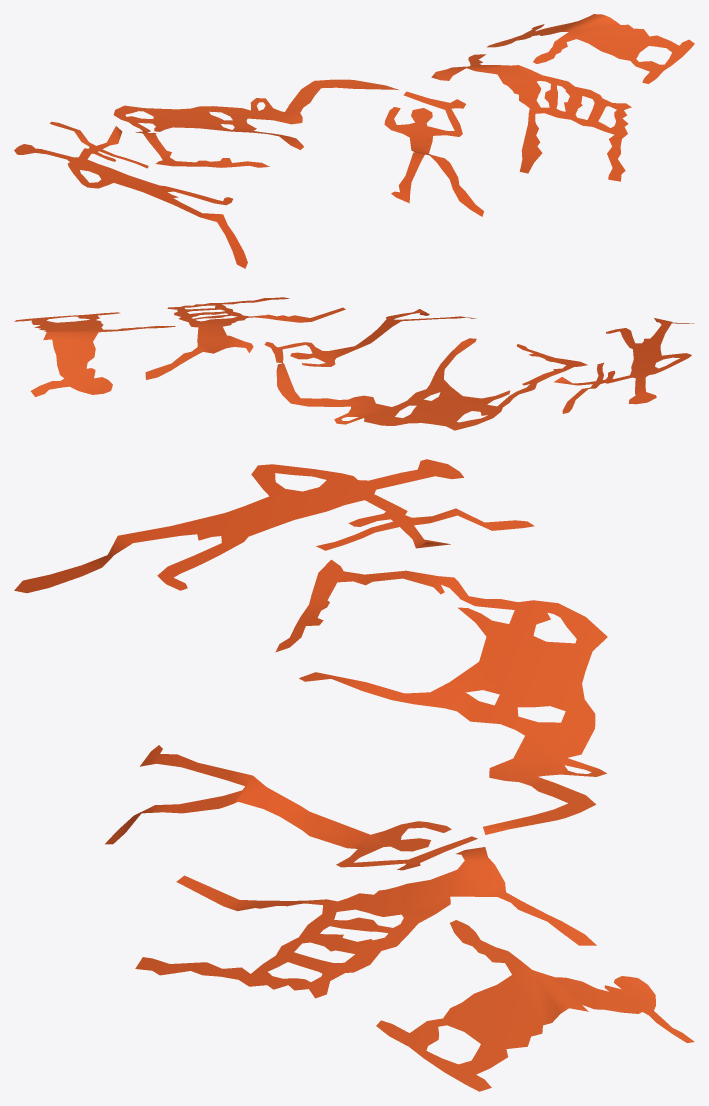
File: Bergkunsten_i_Alta.fbx
The picture shows the model from 3 angles, top to bottom: view 1: azimuth 30°, elevation 25°; view 2: azimuth 150°, elevation 25°; view 3: azimuth 270°, elevation 25°; orthographic projection. The views are drawn at different scales.
Visible parts, largest first — view 1: Bergkunsten_i_Alta; view 2: Bergkunsten_i_Alta; view 3: Bergkunsten_i_Alta.
Boxes of the visible parts, x1=… form: Bergkunsten_i_Alta: x1=14, y1=14, x2=694, y2=268; Bergkunsten_i_Alta: x1=14, y1=297, x2=694, y2=430; Bergkunsten_i_Alta: x1=14, y1=459, x2=694, y2=1091.
Bounding box in the file's own units: 1.64 × 0.1969 × 0.9051.
Materials: 1 (1 with a texture image).
